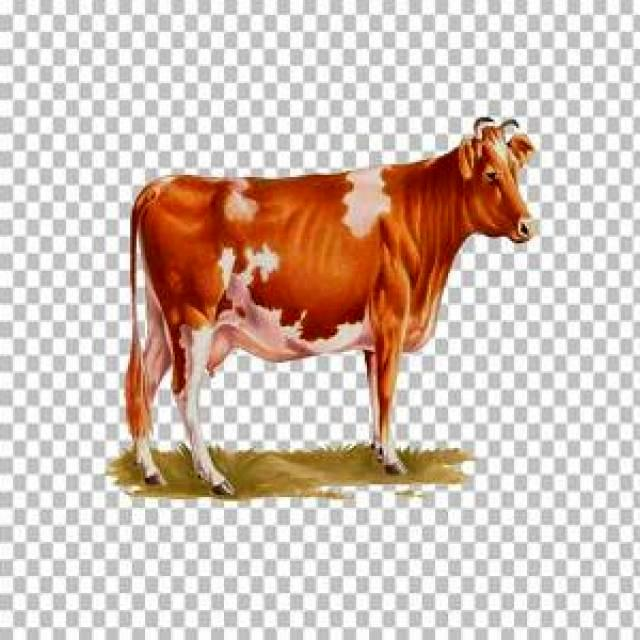COW: (125, 120, 534, 493)
